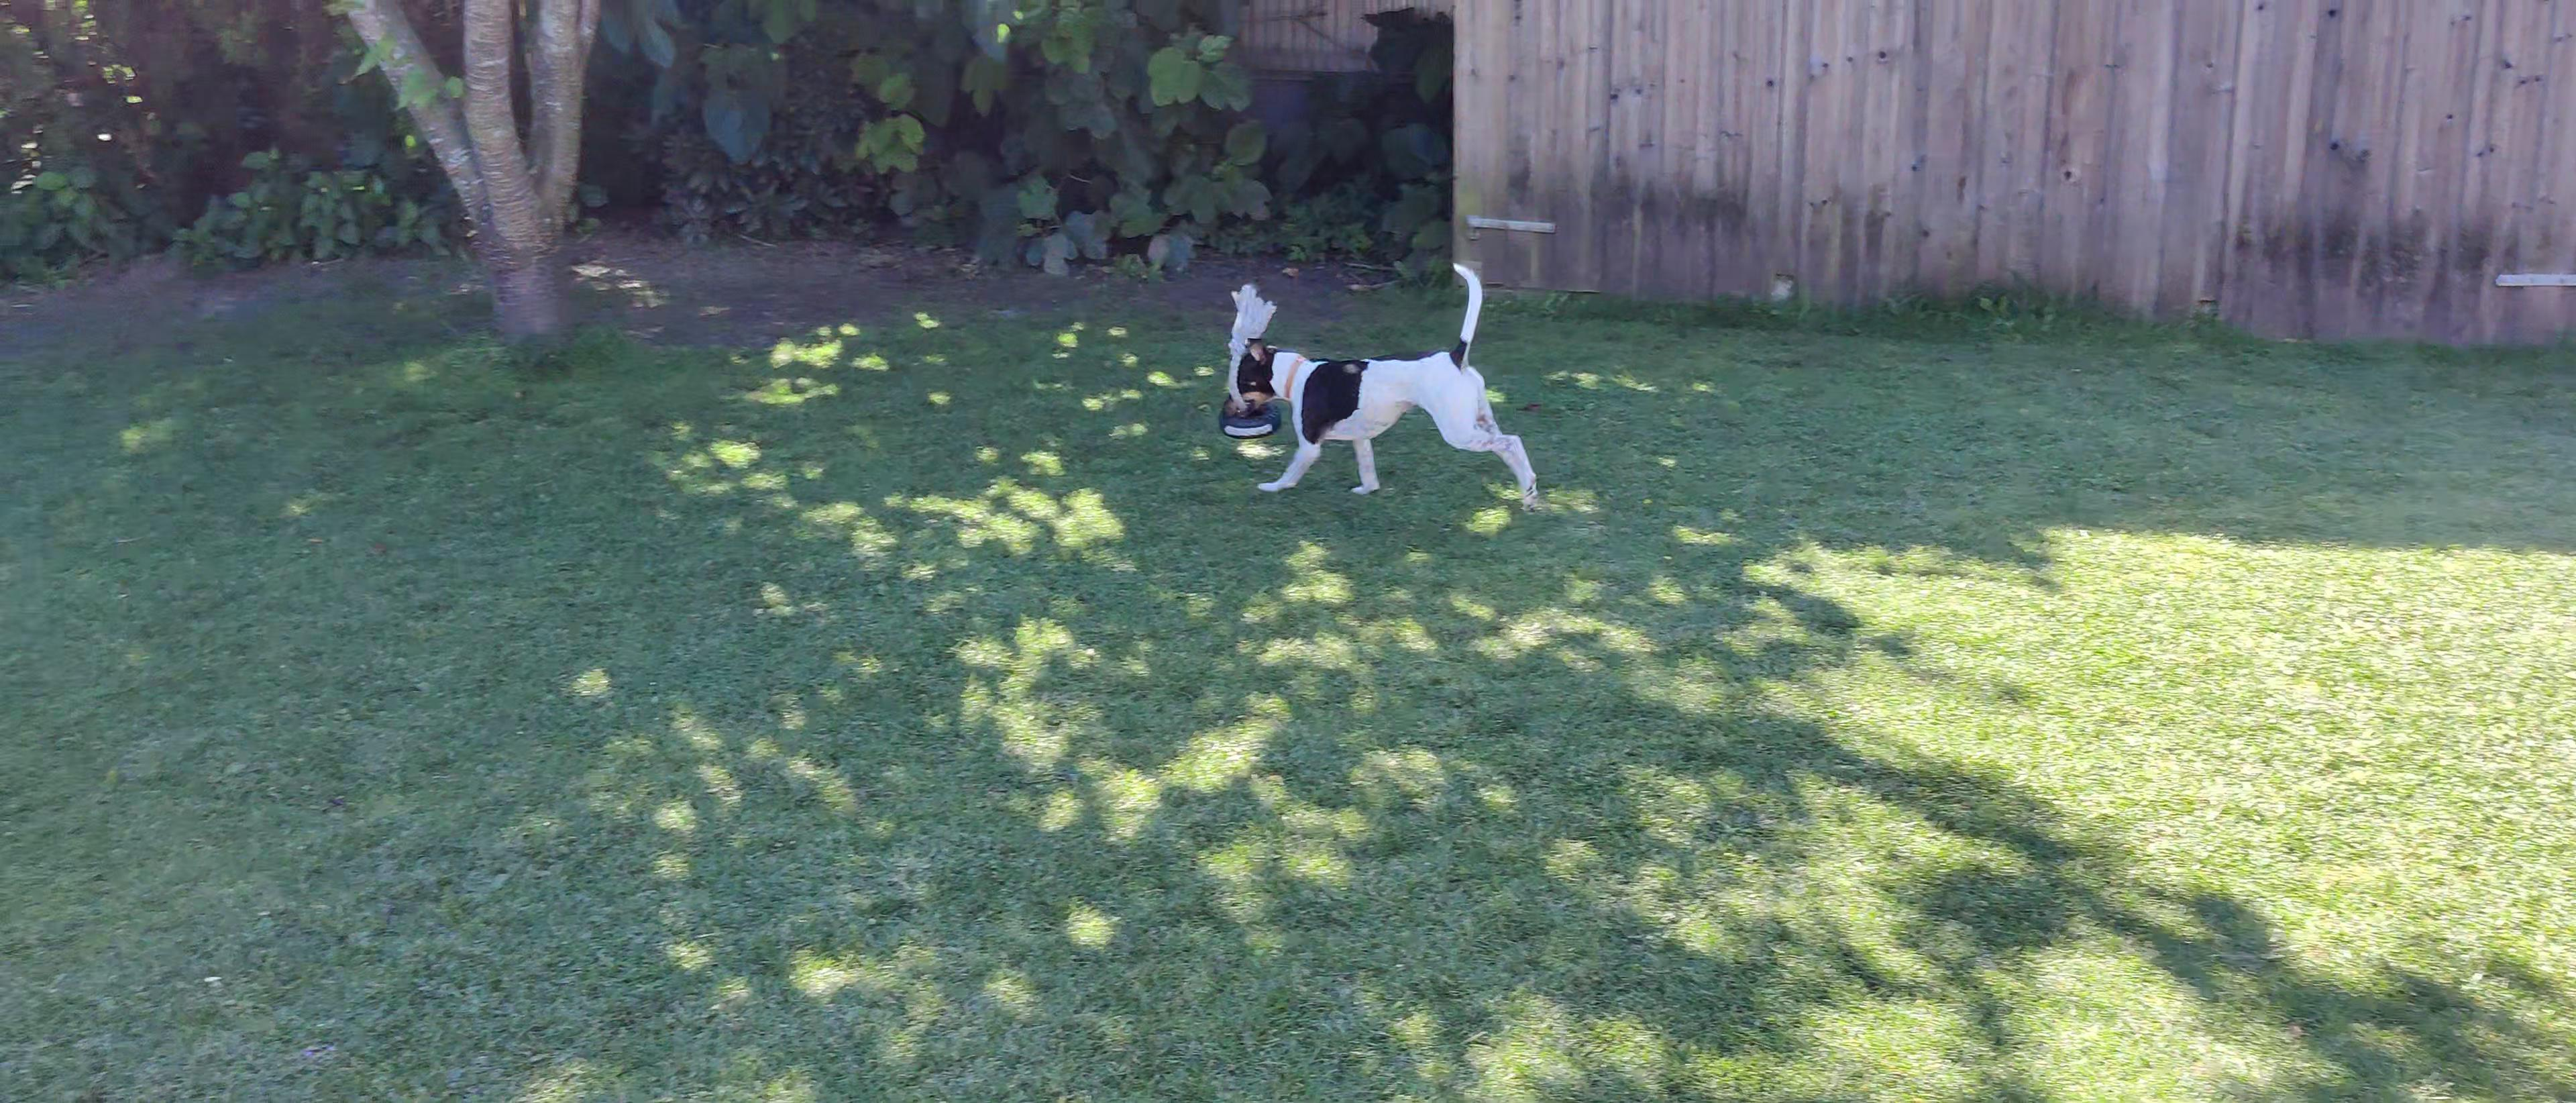Dog: (1216, 253, 1552, 513)
